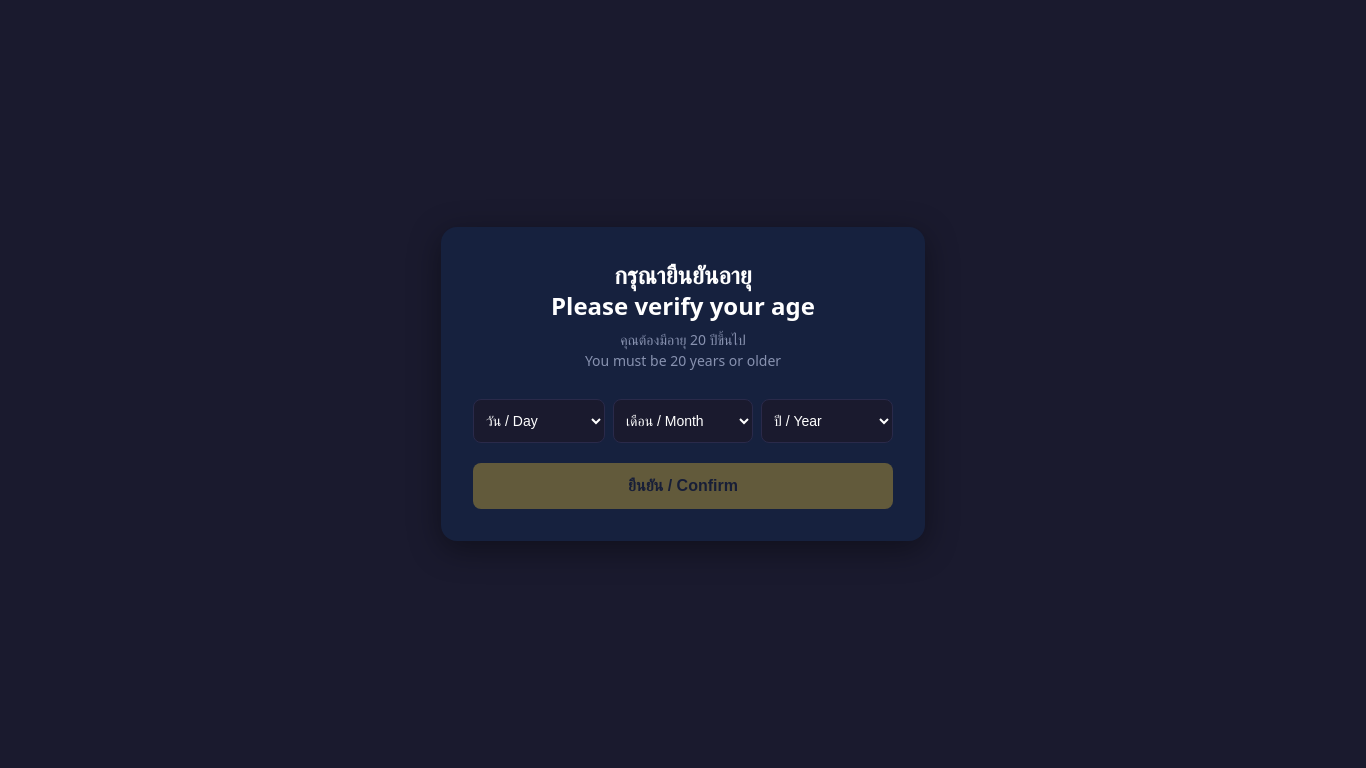
Test: AgeVerification › confirm button is disabled until all fields are selected
Expected: the button "ยืนยัน / Confirm" is disabled, [473, 463, 893, 509]
# Select only day
Select "15" in the dropdown named "Day" at (539, 421), box [473, 399, 605, 443]
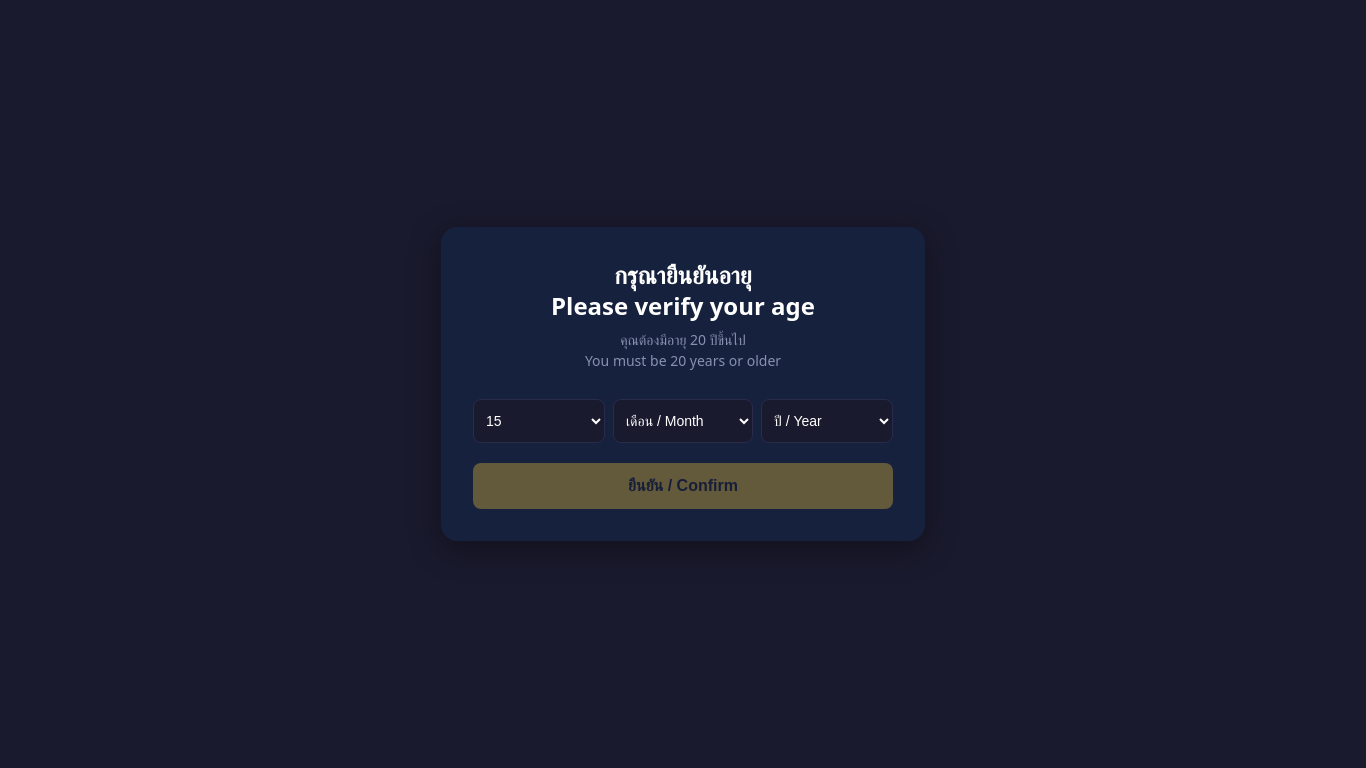
Expected: the button "ยืนยัน / Confirm" is disabled, [473, 463, 893, 509]
# Select month too
Select "มิถุนายน (June)" in the dropdown named "Month" at (683, 421), box [613, 399, 753, 443]
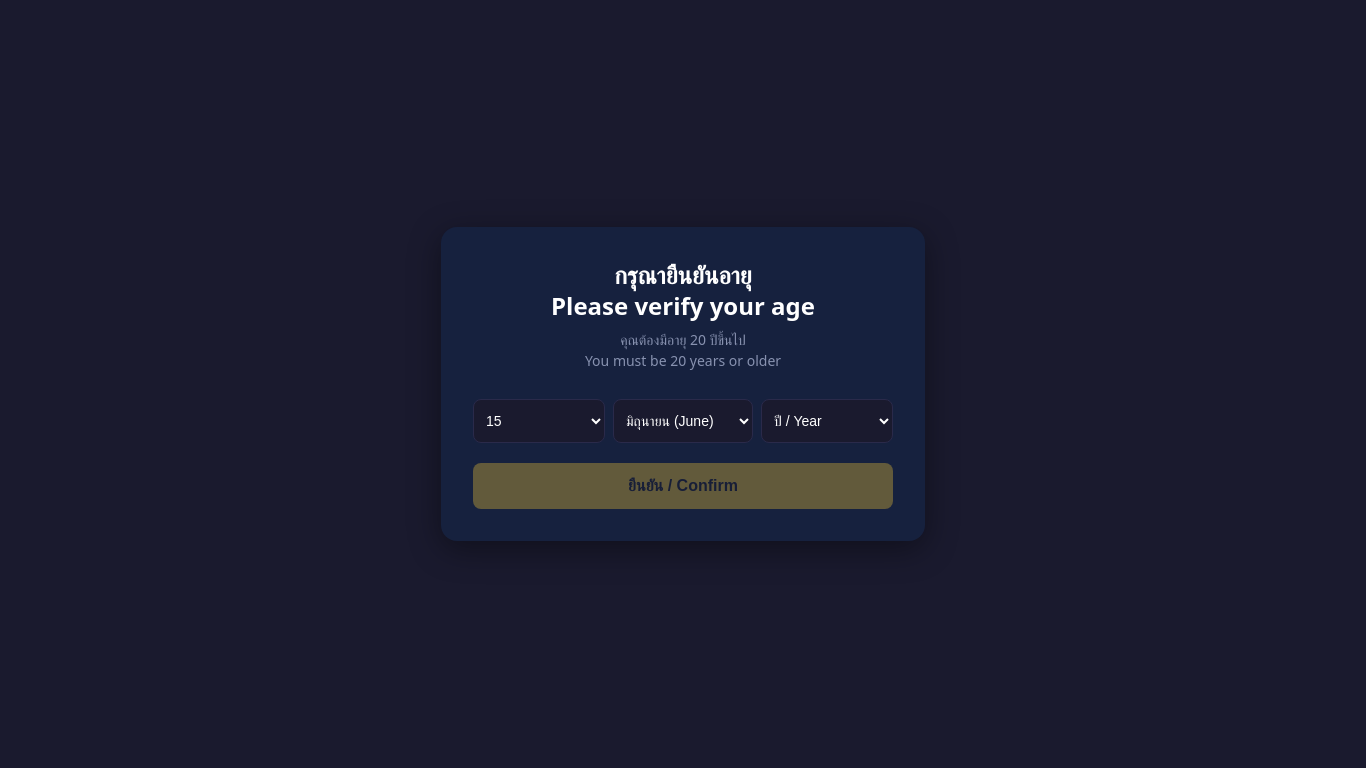
Expected: the button "ยืนยัน / Confirm" is disabled, [473, 463, 893, 509]
# Select year — now all are selected
Select "1990" in the dropdown named "Year" at (827, 421), box [761, 399, 893, 443]
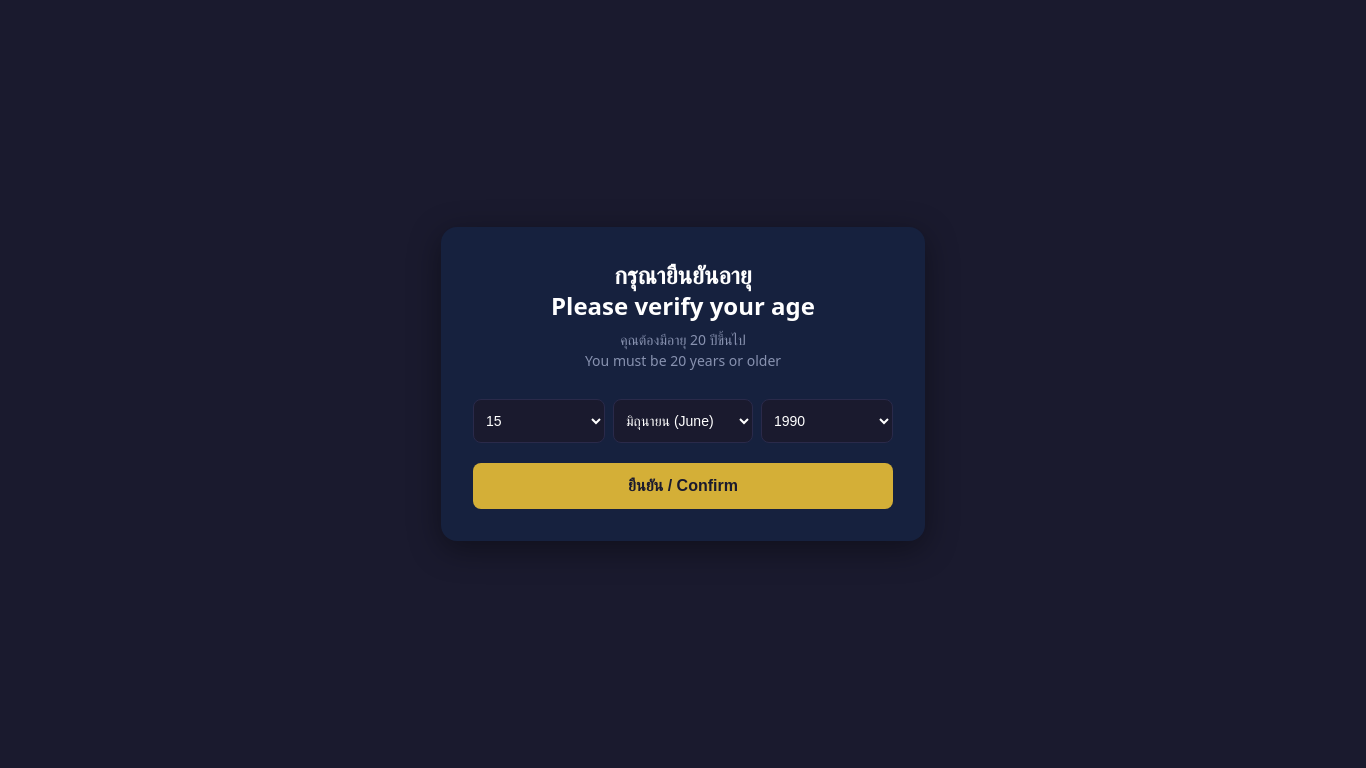
Result: the button "ยืนยัน / Confirm" is enabled at [473, 463, 893, 509]
